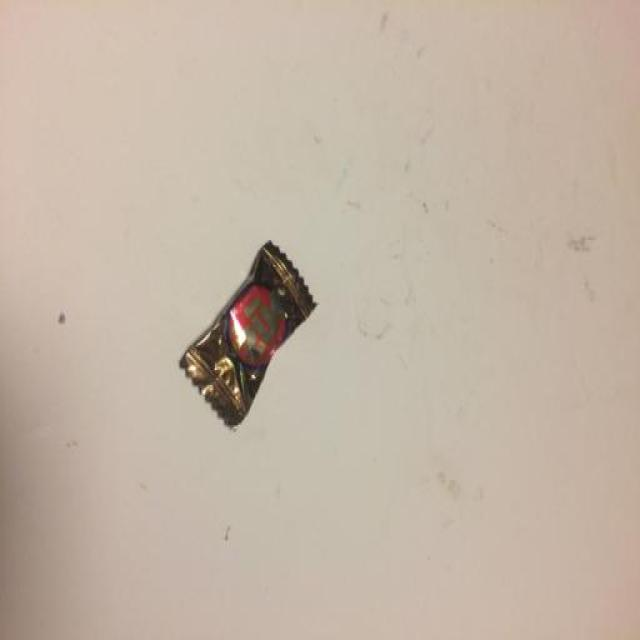Random Trash: (178, 243, 316, 430)
